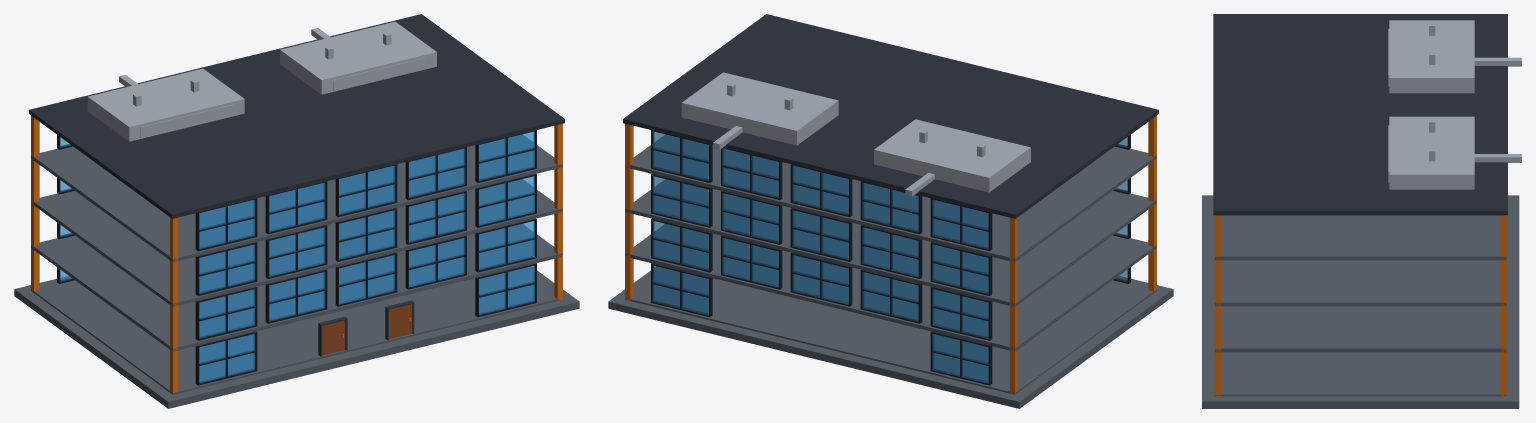
Rendered from bp_proj19_t2_1.pdf_520.obj.
The picture shows the model from 3 angles, left to right: view 1: azimuth 30°, elevation 25°; view 2: azimuth 150°, elevation 25°; view 3: azimuth 270°, elevation 25°; orthographic projection. The views are drawn at different scales.
Parts seen in each view (by area): view 1: Roof_Slab, Floor_Slab_2, Floor_Slab_3, Floor_Slab_4, Floor_Slab_1, Foundation_Slab, Roof_HVAC_1_HVAC_Unit, Roof_HVAC_2_HVAC_Unit, Tower_Win_F2_S_1_Glass, Tower_Win_F3_S_-1_Glass, Tower_Win_F2_S_-2_Glass, Tower_Win_F3_S_1_Glass (+17 smaller); view 2: Roof_Slab, Floor_Slab_1, Floor_Slab_2, Floor_Slab_3, Floor_Slab_4, Foundation_Slab, Roof_HVAC_2_HVAC_Unit, Roof_HVAC_1_HVAC_Unit, Tower_Win_F2_N_1_Glass, Tower_Win_F3_N_-2_Glass, Tower_Win_F3_N_1_Glass, Tower_Win_F2_N_-2_Glass (+13 smaller); view 3: Roof_Slab, Floor_Slab_3, Floor_Slab_2, Floor_Slab_4, Floor_Slab_1, Foundation_Slab, Roof_HVAC_1_HVAC_Unit, Roof_HVAC_2_HVAC_Unit, Roof_HVAC_1_Air_Duct, Roof_HVAC_2_Air_Duct, Steel_Col_2_2, Steel_Col_2_3 (+6 smaller).
Boxes of the visible parts, box(x1,y1,x2,y2) form: Roof_Slab: box(29, 14, 564, 218); Floor_Slab_2: box(31, 224, 562, 351); Floor_Slab_3: box(34, 179, 562, 306); Floor_Slab_4: box(31, 134, 562, 262); Floor_Slab_1: box(31, 269, 560, 394); Foundation_Slab: box(14, 266, 579, 408); Roof_HVAC_1_HVAC_Unit: box(87, 68, 244, 141); Roof_HVAC_2_HVAC_Unit: box(280, 21, 436, 94); Tower_Win_F2_S_1_Glass: box(409, 238, 465, 287); Tower_Win_F3_S_-1_Glass: box(269, 227, 325, 276); Tower_Win_F2_S_-2_Glass: box(199, 289, 255, 338); Tower_Win_F3_S_1_Glass: box(409, 193, 465, 242); Roof_Slab: box(623, 14, 1158, 218); Floor_Slab_1: box(630, 269, 1156, 394); Floor_Slab_2: box(625, 224, 1156, 351); Floor_Slab_3: box(625, 179, 1156, 306); Floor_Slab_4: box(625, 134, 1156, 262); Foundation_Slab: box(608, 266, 1173, 408); Roof_HVAC_2_HVAC_Unit: box(681, 72, 838, 145); Roof_HVAC_1_HVAC_Unit: box(874, 119, 1030, 192); Tower_Win_F2_N_1_Glass: box(722, 238, 778, 287); Tower_Win_F3_N_-2_Glass: box(932, 244, 988, 293); Tower_Win_F3_N_1_Glass: box(722, 193, 778, 242); Tower_Win_F2_N_-2_Glass: box(932, 289, 988, 338); Roof_Slab: box(1213, 14, 1507, 215); Floor_Slab_3: box(1214, 260, 1506, 306); Floor_Slab_2: box(1214, 306, 1506, 352); Floor_Slab_4: box(1214, 215, 1506, 260); Floor_Slab_1: box(1214, 352, 1506, 396); Foundation_Slab: box(1202, 195, 1519, 408); Roof_HVAC_1_HVAC_Unit: box(1389, 20, 1474, 93); Roof_HVAC_2_HVAC_Unit: box(1389, 116, 1474, 189); Roof_HVAC_1_Air_Duct: box(1474, 57, 1521, 66); Roof_HVAC_2_Air_Duct: box(1474, 154, 1521, 162); Steel_Col_2_2: box(1500, 304, 1506, 350); Steel_Col_2_3: box(1214, 304, 1220, 349).
Size of the model in its own units: 30.8 by 15.2 by 20.17.
